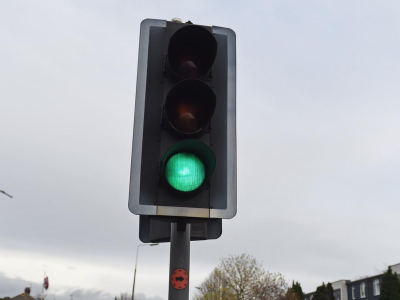trafficlight_green: (159, 30, 220, 196)
